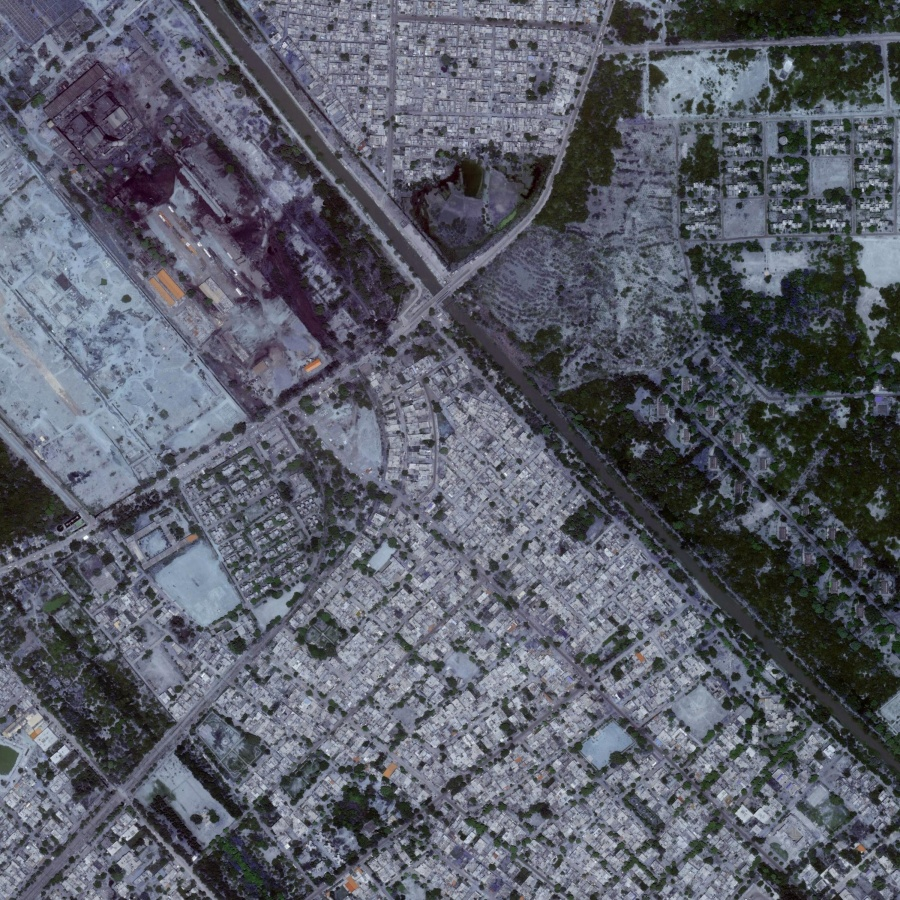PowerPlant: (44, 56, 343, 379)
